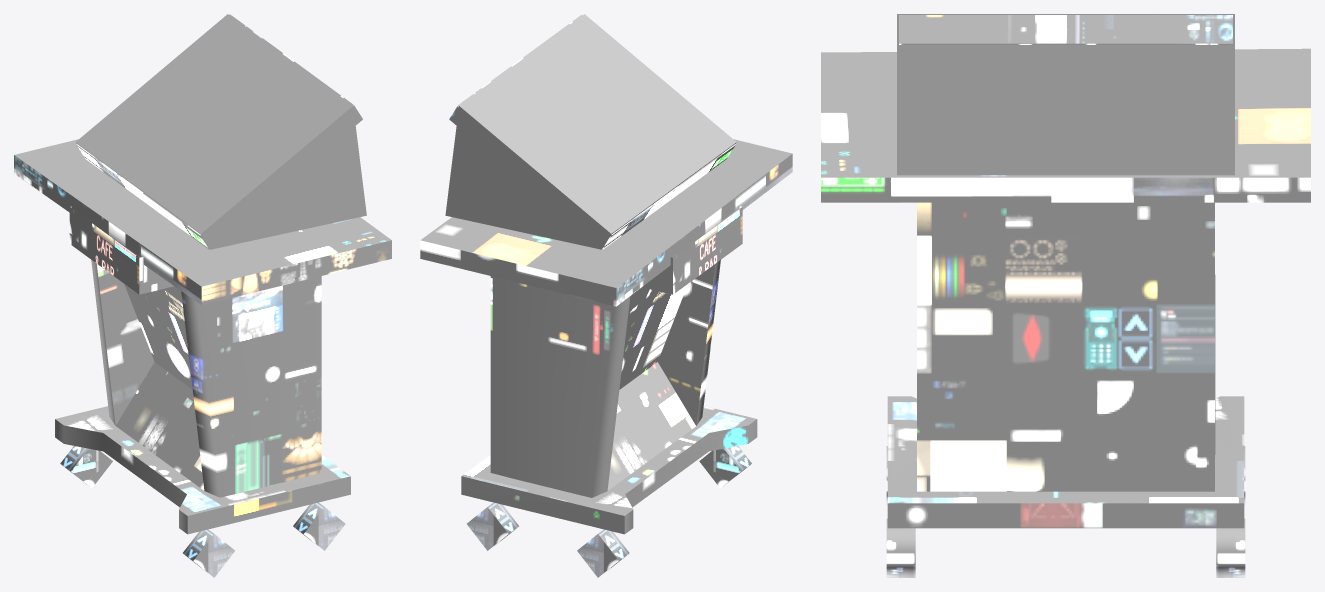
File: SM_BS_Military_Hospital_Equipment_04_ATLAS.fbx
The picture shows the model from 3 angles, left to right: view 1: azimuth 30°, elevation 25°; view 2: azimuth 150°, elevation 25°; view 3: azimuth 270°, elevation 25°; orthographic projection. The views are drawn at different scales.
Parts seen in each view (by area): view 1: SM_BS_Military_Hospital_Equipment_04_ATLAS, SM_BS_Military_Hospital_Equipment_04_ATLAS_ConvexHulls; view 2: SM_BS_Military_Hospital_Equipment_04_ATLAS, SM_BS_Military_Hospital_Equipment_04_ATLAS_ConvexHulls; view 3: SM_BS_Military_Hospital_Equipment_04_ATLAS, SM_BS_Military_Hospital_Equipment_04_ATLAS_ConvexHulls.
Part boxes in pixels (bbox=[...]): SM_BS_Military_Hospital_Equipment_04_ATLAS: bbox=[14, 14, 391, 577]; SM_BS_Military_Hospital_Equipment_04_ATLAS_ConvexHulls: bbox=[75, 14, 366, 249]; SM_BS_Military_Hospital_Equipment_04_ATLAS: bbox=[420, 14, 792, 577]; SM_BS_Military_Hospital_Equipment_04_ATLAS_ConvexHulls: bbox=[445, 14, 736, 249]; SM_BS_Military_Hospital_Equipment_04_ATLAS: bbox=[821, 15, 1310, 577]; SM_BS_Military_Hospital_Equipment_04_ATLAS_ConvexHulls: bbox=[897, 14, 1234, 175].
Size of the model in its own units: 53.08 by 83.75 by 110.
